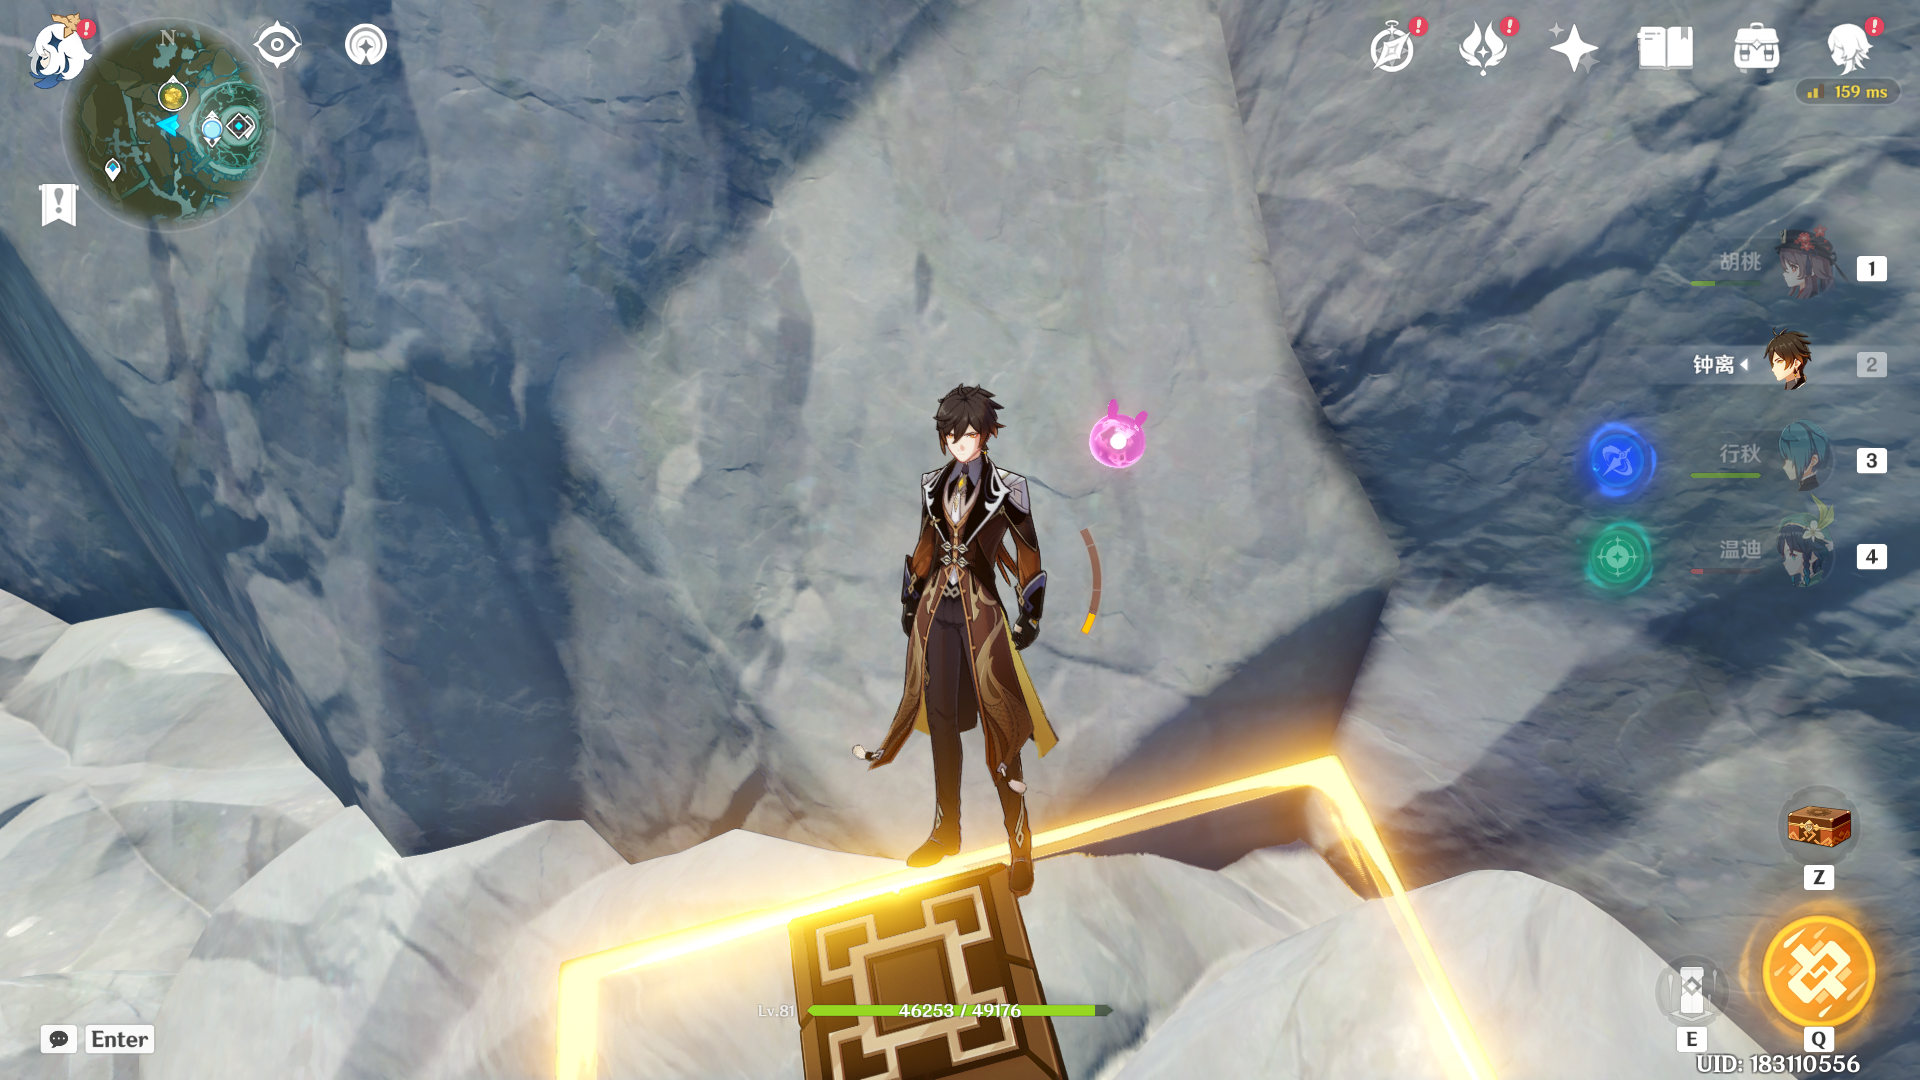character: (808, 353, 1134, 894)
